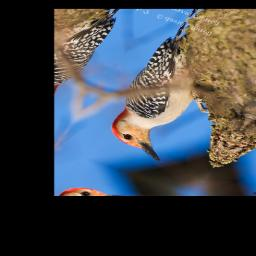Woodpecker: (90, 20, 248, 163)
